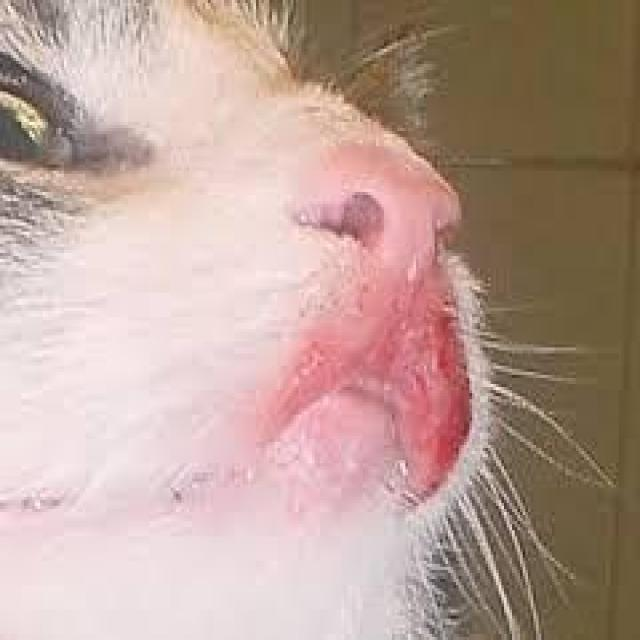cat-ulcer: (388, 295, 469, 485)
